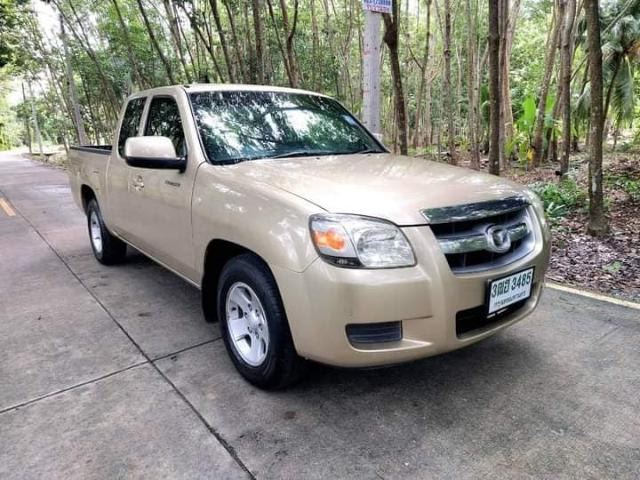pickup-truck: (64, 73, 558, 405)
